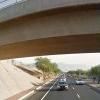Bridge: (2, 0, 95, 63)
